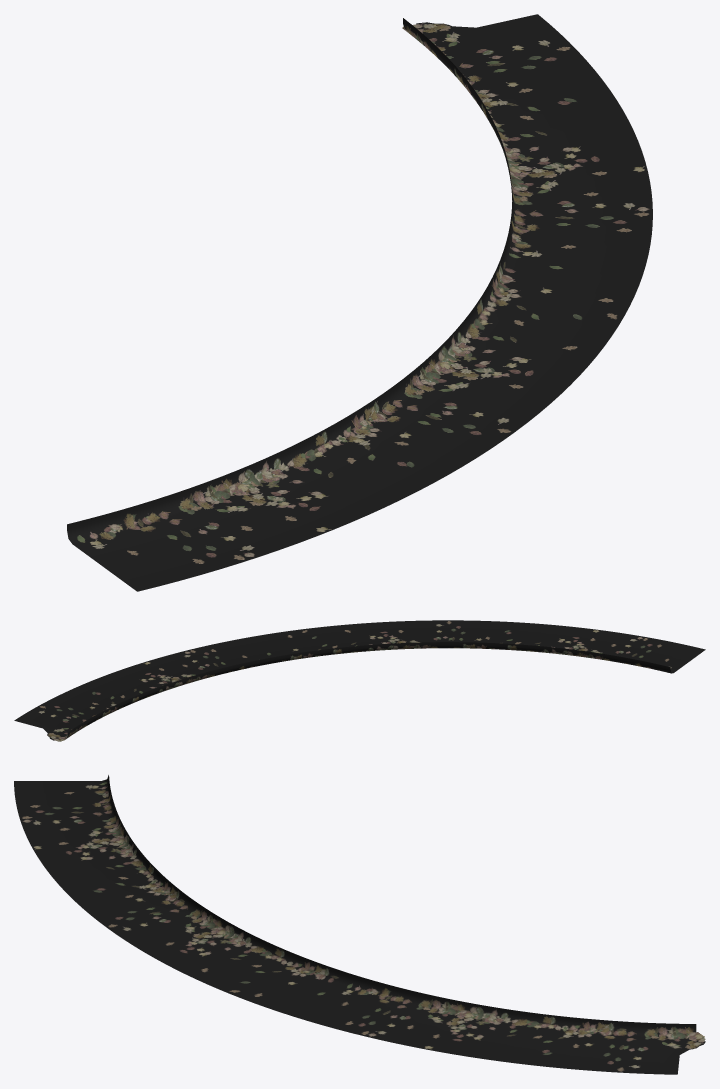
Rendered from SM_leaf_decal_03.fbx.
3 renders of one model, top to bottom at view 1: azimuth 30°, elevation 25°; view 2: azimuth 150°, elevation 25°; view 3: azimuth 270°, elevation 25°, orthographic. The views are drawn at different scales.
Parts seen in each view (by area): view 1: SM_leaf_decal_03; view 2: SM_leaf_decal_03; view 3: SM_leaf_decal_03.
Part boxes in pixels (bbox=[...]): SM_leaf_decal_03: bbox=[67, 14, 652, 591]; SM_leaf_decal_03: bbox=[14, 620, 705, 741]; SM_leaf_decal_03: bbox=[14, 775, 705, 1074].
Bounding box in the file's own units: 1536 × 1529 × 26.39.
1 material, 1 textured.
